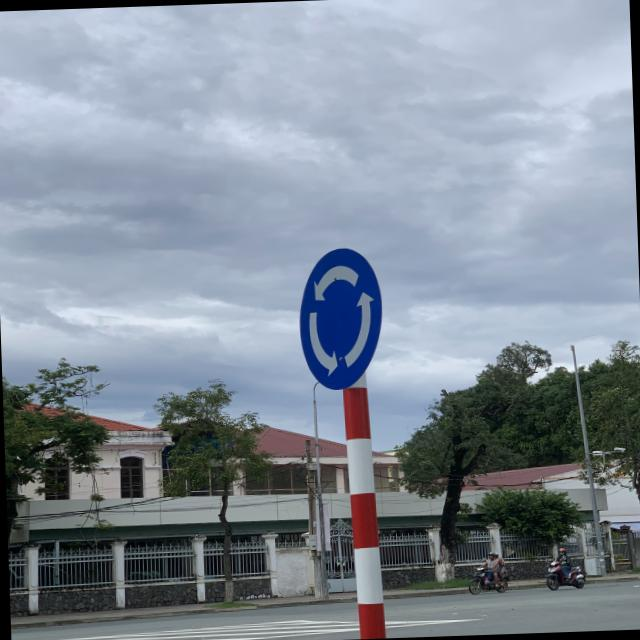Xe_Bus: (296, 244, 386, 390)
